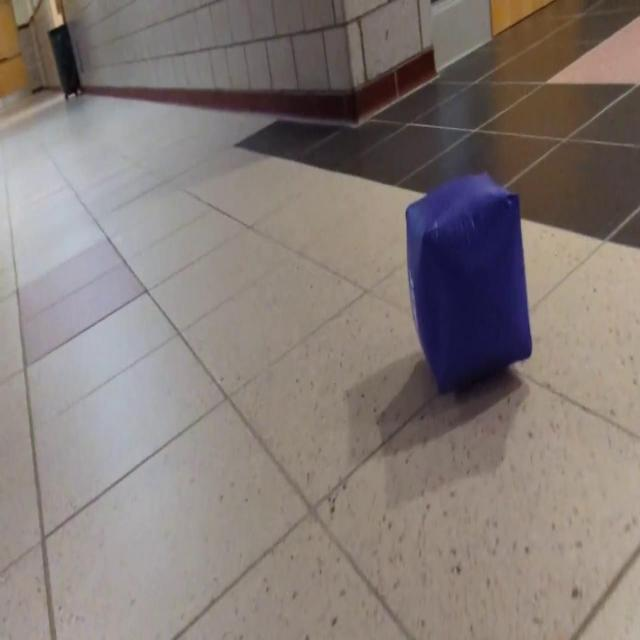frc_cube: (405, 170, 535, 392)
